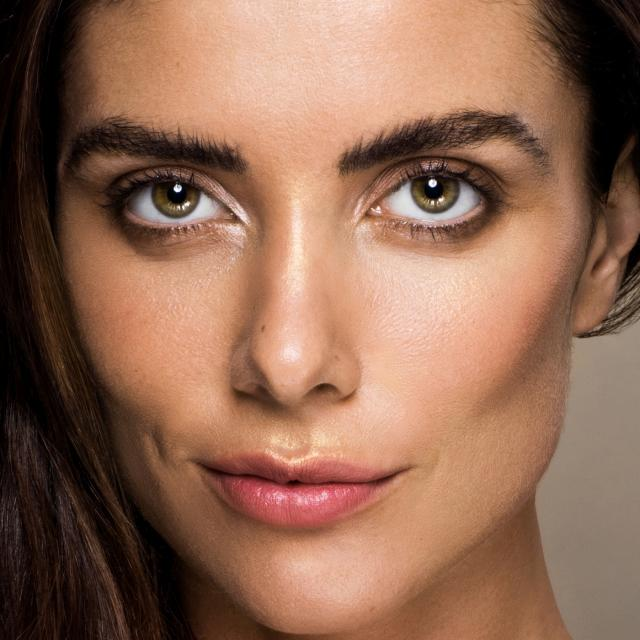earlobe: (568, 126, 640, 336)
